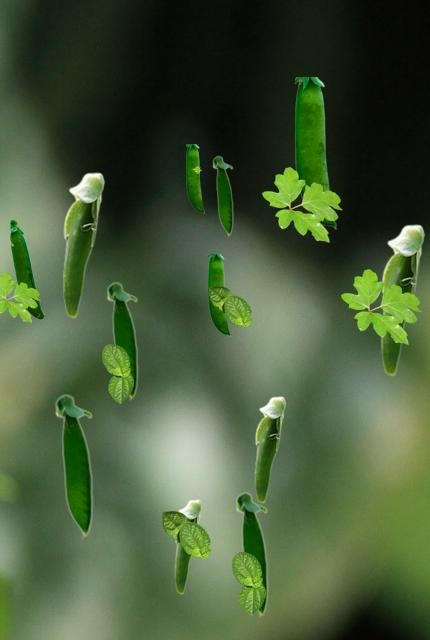pea: (380, 224, 424, 375), (62, 172, 104, 317), (295, 77, 335, 228), (54, 393, 92, 538), (235, 491, 267, 617), (106, 281, 137, 400), (9, 218, 43, 318), (254, 396, 285, 502), (174, 499, 201, 593), (208, 254, 229, 335), (212, 155, 232, 236), (186, 144, 203, 212)
